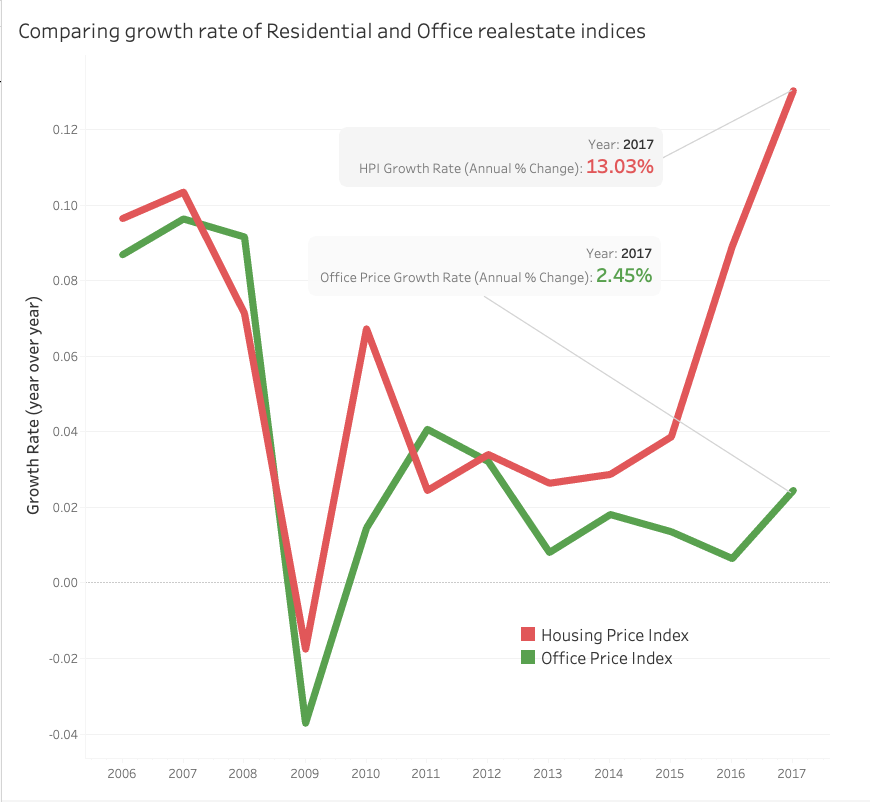

What the dashboard file says about the page in this screenshot:
{"tool":"tableau","page":{"name":"Task 3","canvas":[1000,800],"ordinal":1},"visuals":[{"type":"worksheet","title":"Task 3 | Office vs Residential Trends (2)","mark":"Automatic","cols":["date"],"box":[8,8,824,784]},{"type":"legend","title":"Task 3 | Office vs Residential Trends (2)","param":"[federated.1okl8ay0m9et4017je1rc01q96pp].[:Measure Names]","box":[515,623,226,58]}]}

Visuals, with their boxes on the page's 1000x800 design canvas (x1, y1, x2, y2). These are canvas units, not pixel positions in the 870x802 screenshot, which may show the page scaled, cropped or inside an application window:
"Task 3 | Office vs Residential Trends (2)" worksheet: 8:8:832:792
"Task 3 | Office vs Residential Trends (2)" legend: 515:623:741:681
